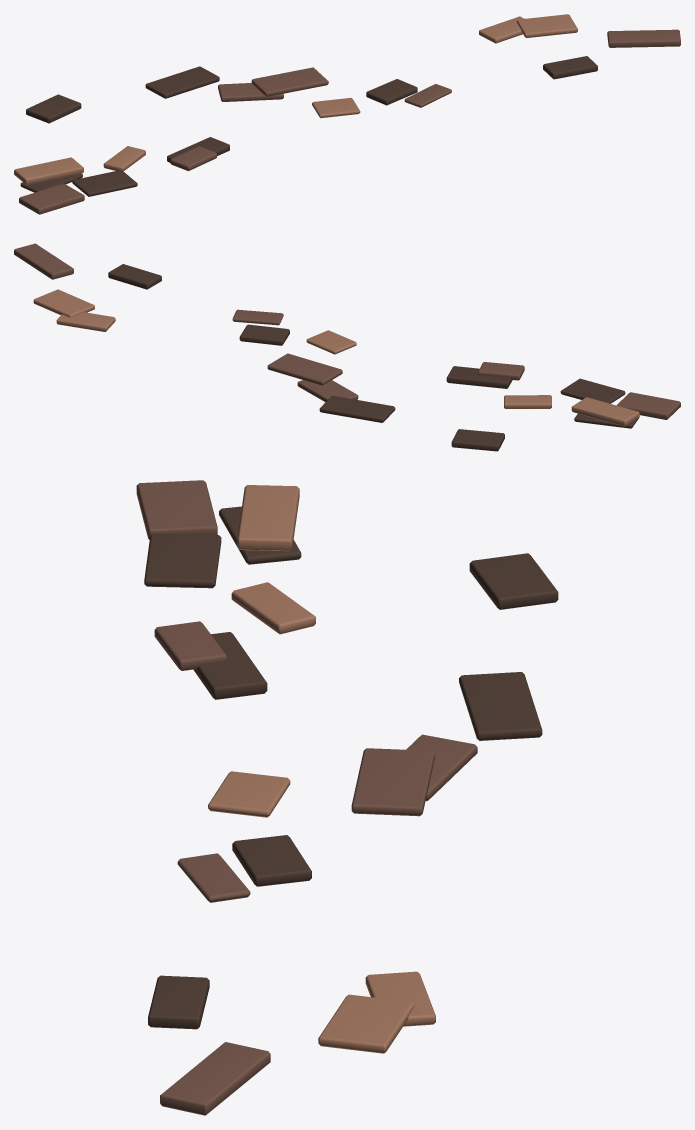
File: roof_damage_tiles_01.glb
3 views of the same model, one above another, from view 1: azimuth 30°, elevation 25°; view 2: azimuth 150°, elevation 25°; view 3: azimuth 270°, elevation 25° (orthographic). The views are drawn at different scales.
Parts seen in each view (by area): view 1: loose_broken_tile_01.001, loose_broken_tile_09.001, loose_broken_tile_13.001, loose_broken_tile_03.001, loose_broken_tile_06.001, loose_broken_tile_07.001, loose_broken_tile_16.001, loose_broken_tile_17.001, loose_broken_tile_10.001, loose_broken_tile_11.001, loose_broken_tile_04.001, loose_broken_tile_05.001 (+6 smaller); view 2: loose_broken_tile_01.001, loose_broken_tile_09.001, loose_broken_tile_06.001, loose_broken_tile_13.001, loose_broken_tile_03.001, loose_broken_tile_07.001, loose_broken_tile_16.001, loose_broken_tile_17.001, loose_broken_tile_14.001, loose_broken_tile_10.001, loose_broken_tile_04.001, loose_broken_tile_15.001 (+6 smaller); view 3: loose_broken_tile_01.001, loose_broken_tile_09.001, loose_broken_tile_13.001, loose_broken_tile_07.001, loose_broken_tile_16.001, loose_broken_tile_03.001, loose_broken_tile_06.001, loose_broken_tile_17.001, loose_broken_tile_04.001, loose_broken_tile_10.001, loose_broken_tile_14.001, loose_broken_tile_05.001 (+6 smaller).
Boxes of the visible parts, x1=… form: loose_broken_tile_01.001: x1=251, y1=67, x2=328, y2=96; loose_broken_tile_09.001: x1=145, y1=66, x2=219, y2=98; loose_broken_tile_13.001: x1=607, y1=29, x2=680, y2=47; loose_broken_tile_03.001: x1=19, y1=183, x2=84, y2=214; loose_broken_tile_06.001: x1=14, y1=157, x2=83, y2=184; loose_broken_tile_07.001: x1=516, y1=14, x2=577, y2=37; loose_broken_tile_16.001: x1=72, y1=170, x2=137, y2=196; loose_broken_tile_17.001: x1=26, y1=94, x2=81, y2=123; loose_broken_tile_10.001: x1=543, y1=56, x2=597, y2=79; loose_broken_tile_11.001: x1=218, y1=83, x2=283, y2=101; loose_broken_tile_04.001: x1=366, y1=79, x2=417, y2=105; loose_broken_tile_05.001: x1=312, y1=98, x2=360, y2=118; loose_broken_tile_01.001: x1=267, y1=353, x2=342, y2=385; loose_broken_tile_09.001: x1=319, y1=395, x2=395, y2=422; loose_broken_tile_06.001: x1=571, y1=397, x2=639, y2=426; loose_broken_tile_13.001: x1=14, y1=243, x2=73, y2=279; loose_broken_tile_03.001: x1=616, y1=392, x2=680, y2=419; loose_broken_tile_07.001: x1=33, y1=289, x2=94, y2=317; loose_broken_tile_16.001: x1=560, y1=378, x2=625, y2=403; loose_broken_tile_17.001: x1=451, y1=429, x2=504, y2=451; loose_broken_tile_14.001: x1=446, y1=366, x2=512, y2=388; loose_broken_tile_10.001: x1=108, y1=264, x2=161, y2=289; loose_broken_tile_04.001: x1=239, y1=324, x2=289, y2=345; loose_broken_tile_15.001: x1=56, y1=312, x2=115, y2=331; loose_broken_tile_01.001: x1=351, y1=748, x2=434, y2=816; loose_broken_tile_09.001: x1=459, y1=672, x2=542, y2=740; loose_broken_tile_13.001: x1=160, y1=1042, x2=270, y2=1115; loose_broken_tile_07.001: x1=318, y1=994, x2=414, y2=1053; loose_broken_tile_16.001: x1=144, y1=533, x2=221, y2=588; loose_broken_tile_03.001: x1=136, y1=480, x2=217, y2=539; loose_broken_tile_06.001: x1=237, y1=485, x2=299, y2=551; loose_broken_tile_17.001: x1=469, y1=553, x2=558, y2=609; loose_broken_tile_04.001: x1=232, y1=835, x2=311, y2=886; loose_broken_tile_10.001: x1=148, y1=975, x2=209, y2=1029; loose_broken_tile_14.001: x1=193, y1=632, x2=267, y2=699; loose_broken_tile_05.001: x1=208, y1=771, x2=290, y2=817.
Size of the model in its own units: 4.4 by 0.0948 by 1.23.
